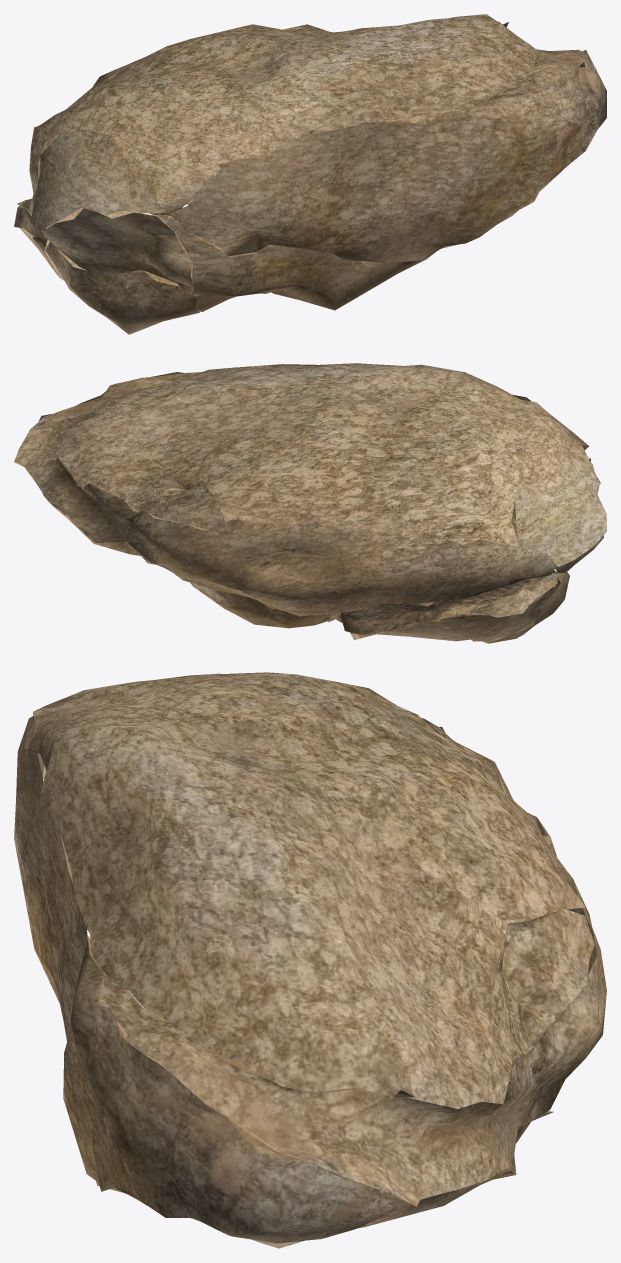
File: boulder_b.glb
3 views of the same model, one above another, from view 1: azimuth 30°, elevation 25°; view 2: azimuth 150°, elevation 25°; view 3: azimuth 270°, elevation 25° (orthographic). The views are drawn at different scales.
Parts seen in each view (by area): view 1: boulder_b_v0_lod0; view 2: boulder_b_v0_lod0; view 3: boulder_b_v0_lod0.
Boxes of the visible parts, <box> form: boulder_b_v0_lod0: <box>14,14,606,334</box>; boulder_b_v0_lod0: <box>14,363,606,643</box>; boulder_b_v0_lod0: <box>14,672,606,1248</box>.
Size of what is drawn, in the model's own units: 1.36 by 0.5261 by 0.7375.
Materials: 1 (1 with a texture image).
